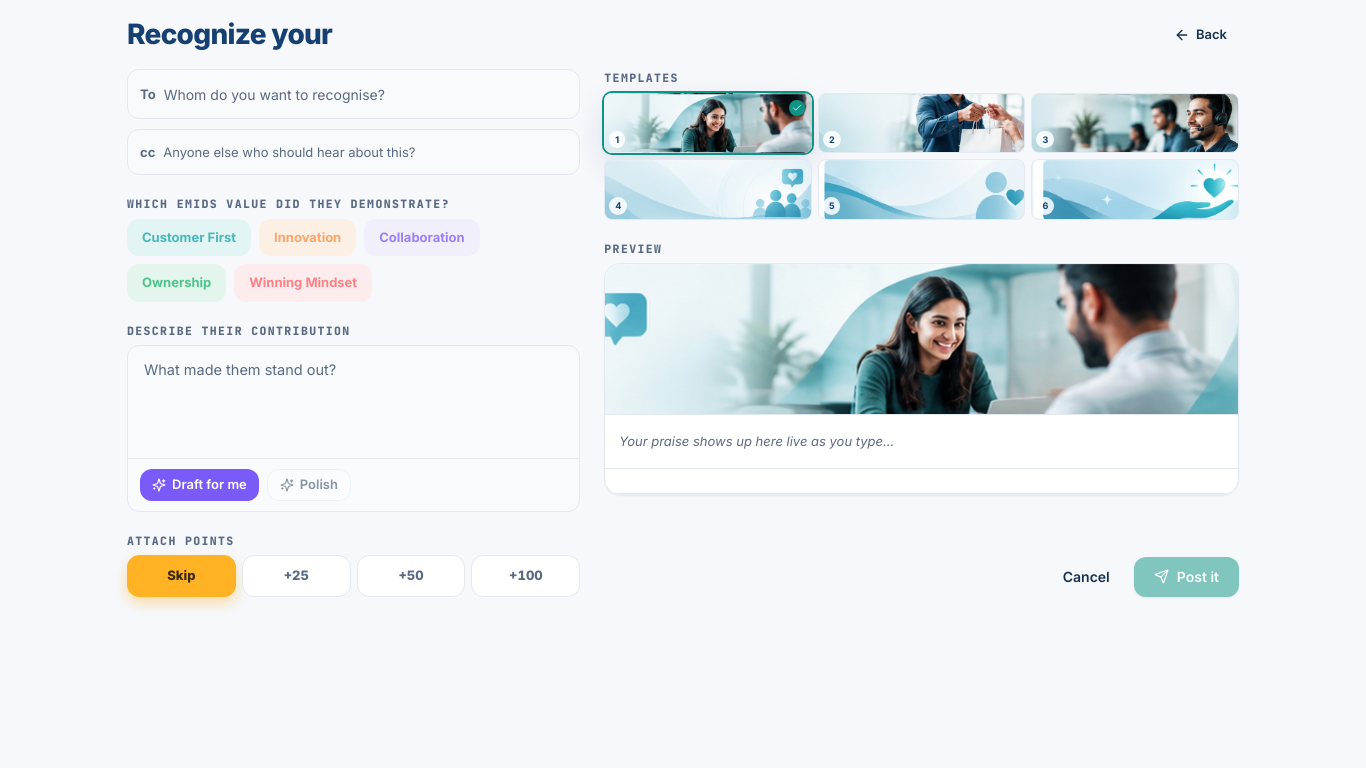
Test: Composer page › matches directory people by their email address
In the field with id "composer-to-input": (365, 94) left=164, top=78, right=567, bottom=110, type "priya.menon@emids.com"
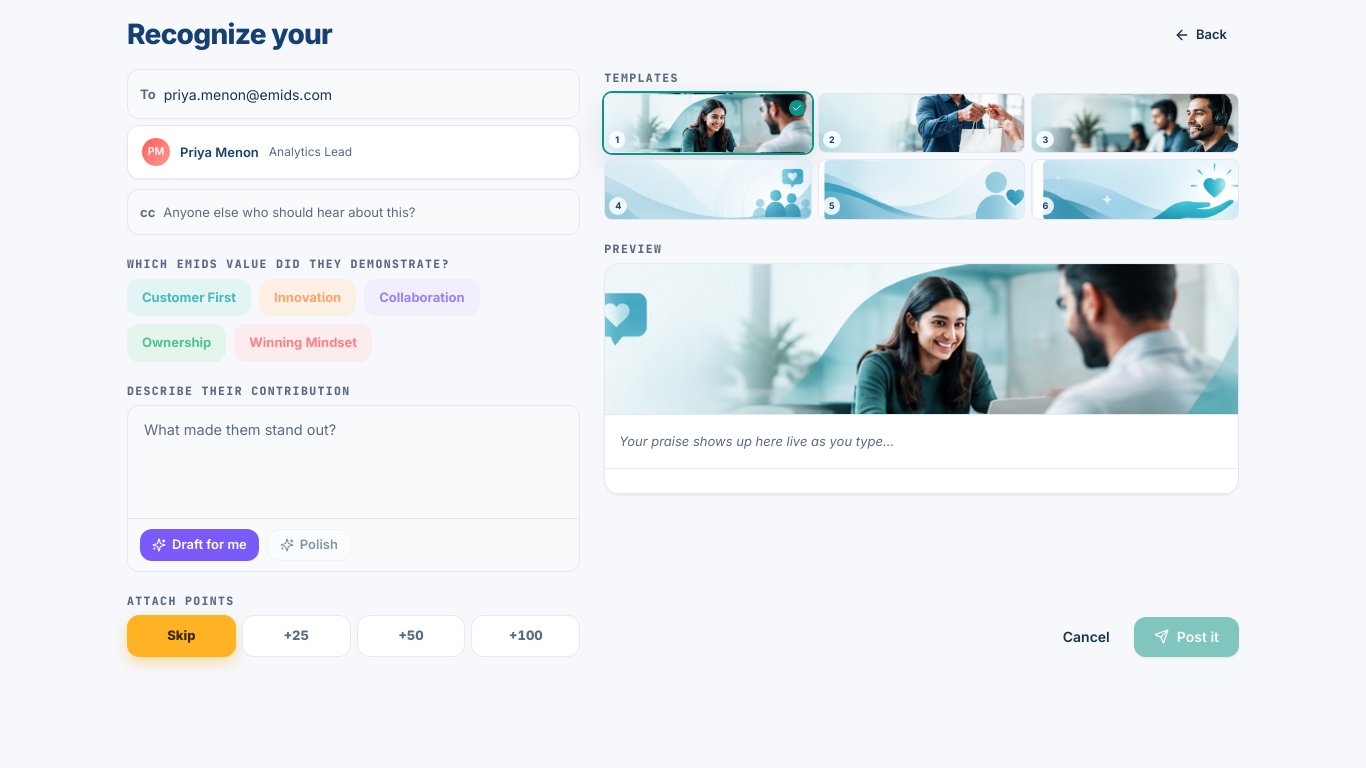
Click the text "Priya Menon": click(219, 152) left=180, top=143, right=259, bottom=162
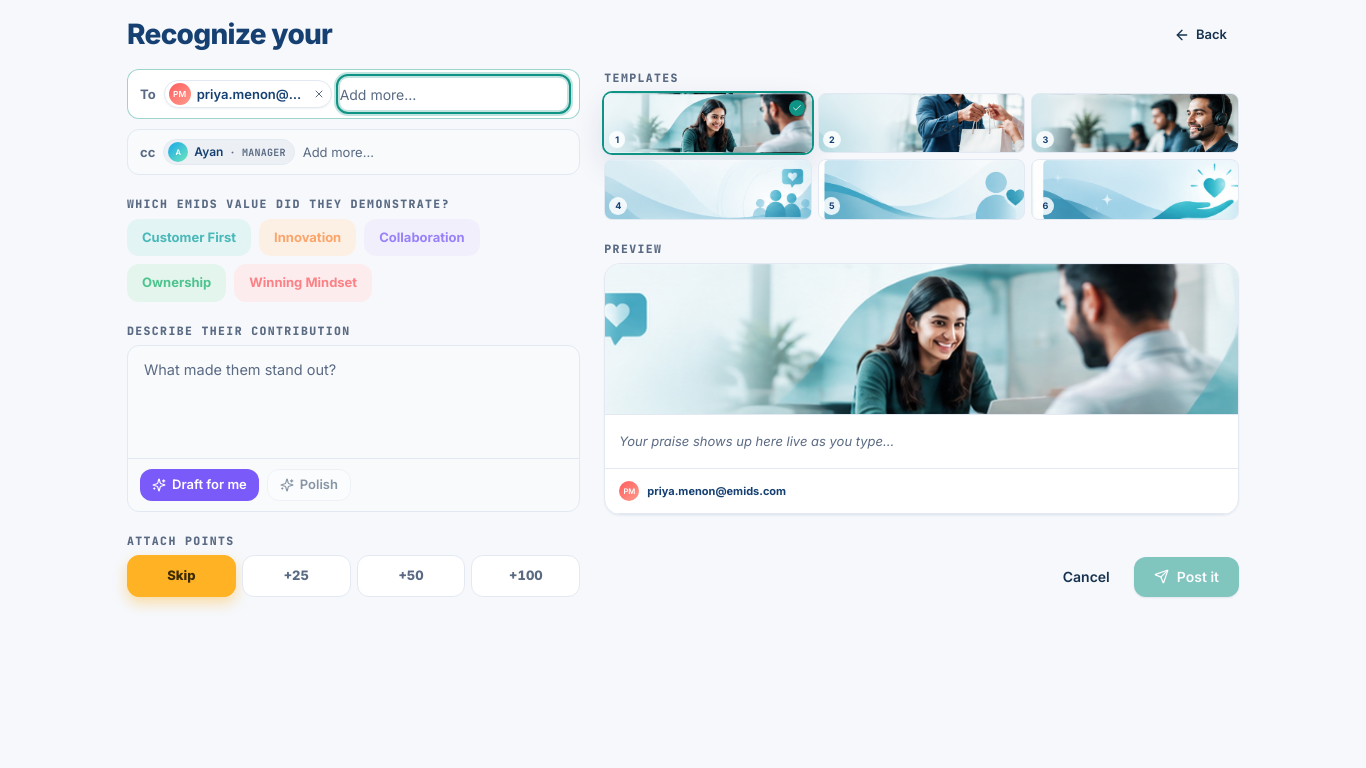
Check: the button "priya.menon@emids.com" is shown, box left=197, top=85, right=307, bottom=104
